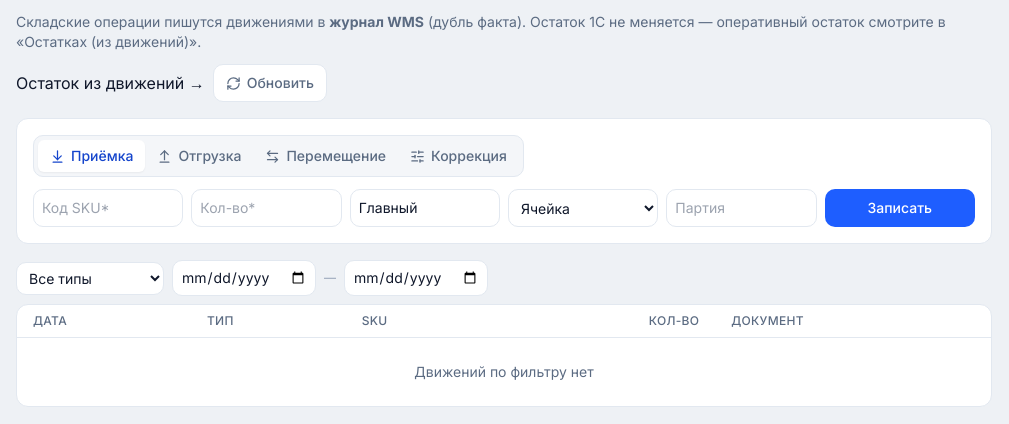
WmsMovements › успешная приёмка: qty с запятой парсится, зовётся receipt, показывается успех и журнал обновляется
Step 1. Type "6СТ-190" into the field with placeholder "Код SKU*" → [108, 208], box 33,189 -> 183,227
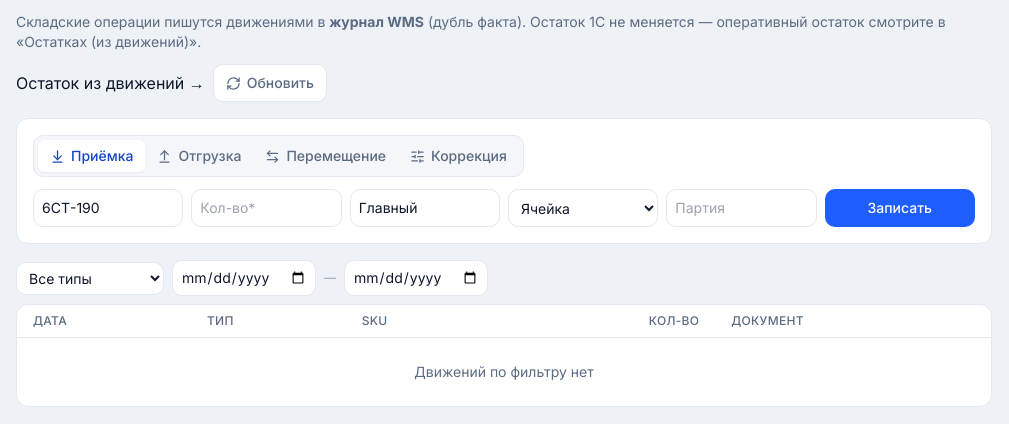
Step 2. Type "2,5" into the field with placeholder "Кол-во*" → [266, 208], box 191,189 -> 342,227
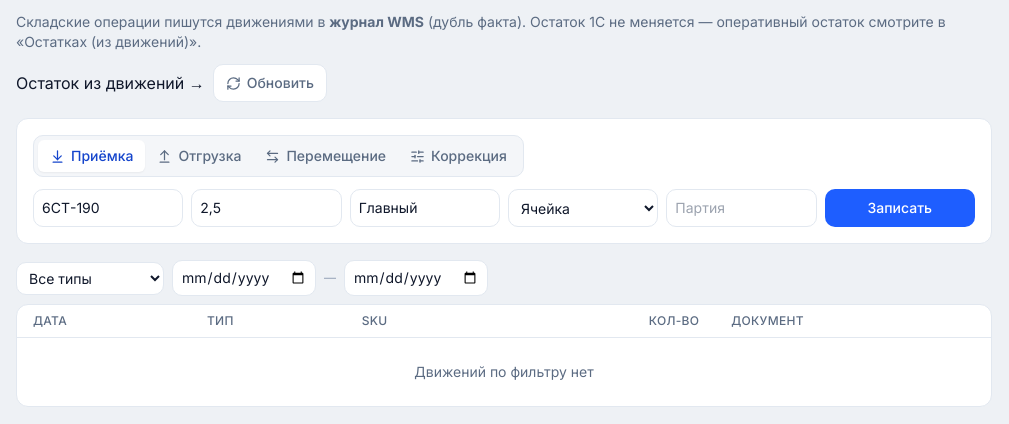
Step 3. Click the button "Записать" → [900, 208], box 825,189 -> 975,227
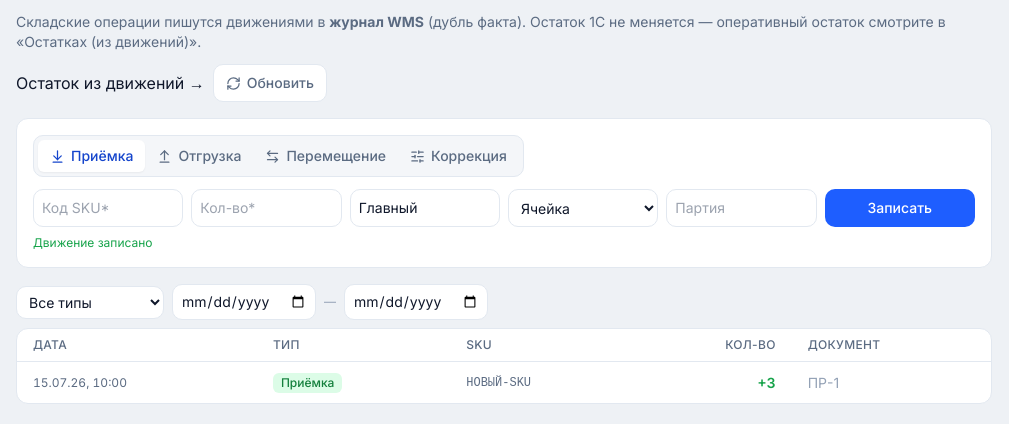
Expected: the text "Движение записано" is shown, 33,235 -> 152,250
Expected: the text "НОВЫЙ-SKU" is shown, 450,362 -> 635,403
